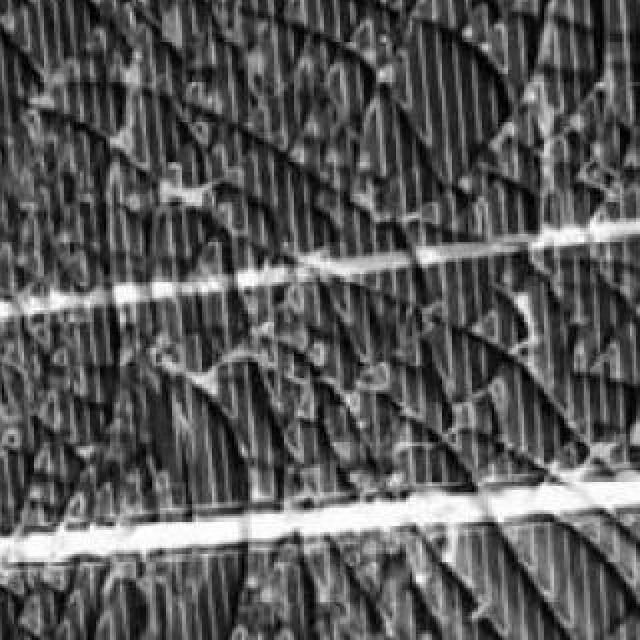Physical-damage: (12, 10, 616, 617)
